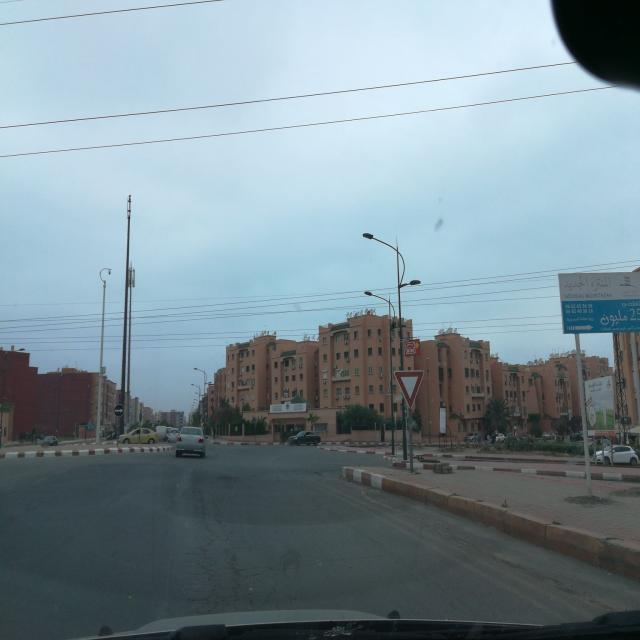forb_stopping: (213, 416, 219, 423)
